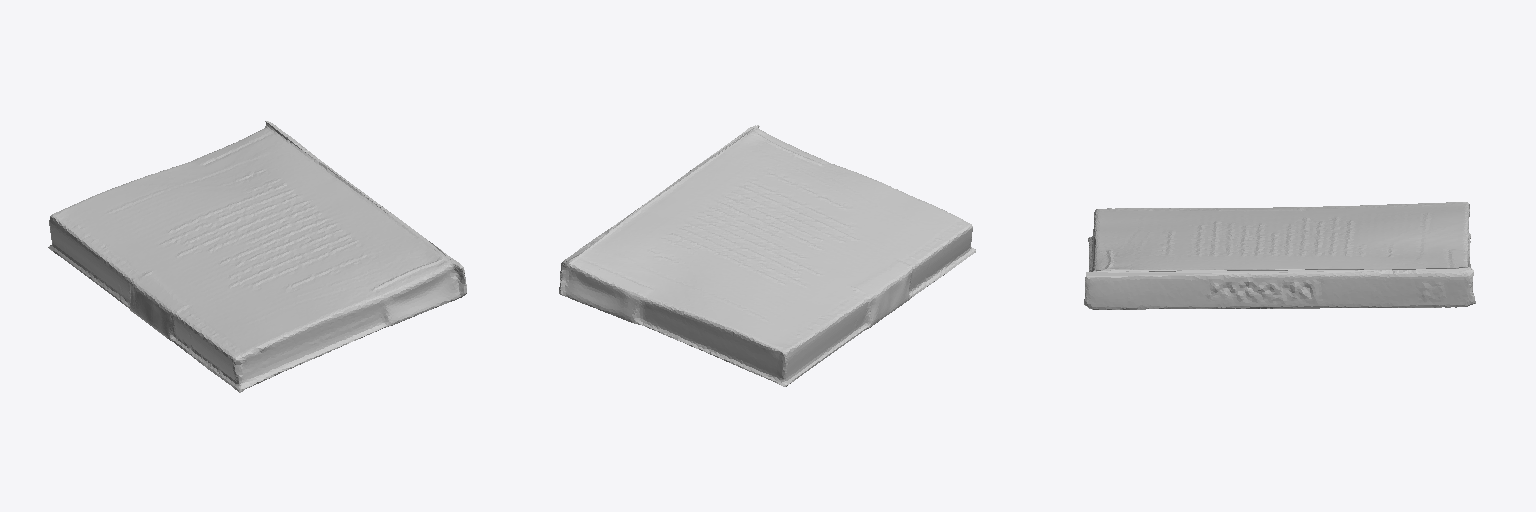
The model's file is bottom.obj.
3 views of the same model, side by side, from view 1: azimuth 30°, elevation 25°; view 2: azimuth 150°, elevation 25°; view 3: azimuth 270°, elevation 25° (orthographic).
Size of the model in its own units: 159 by 52.45 by 234.